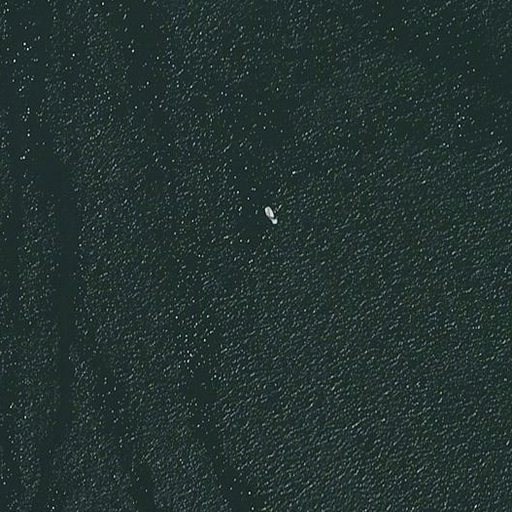ship: (262, 204, 280, 227)
